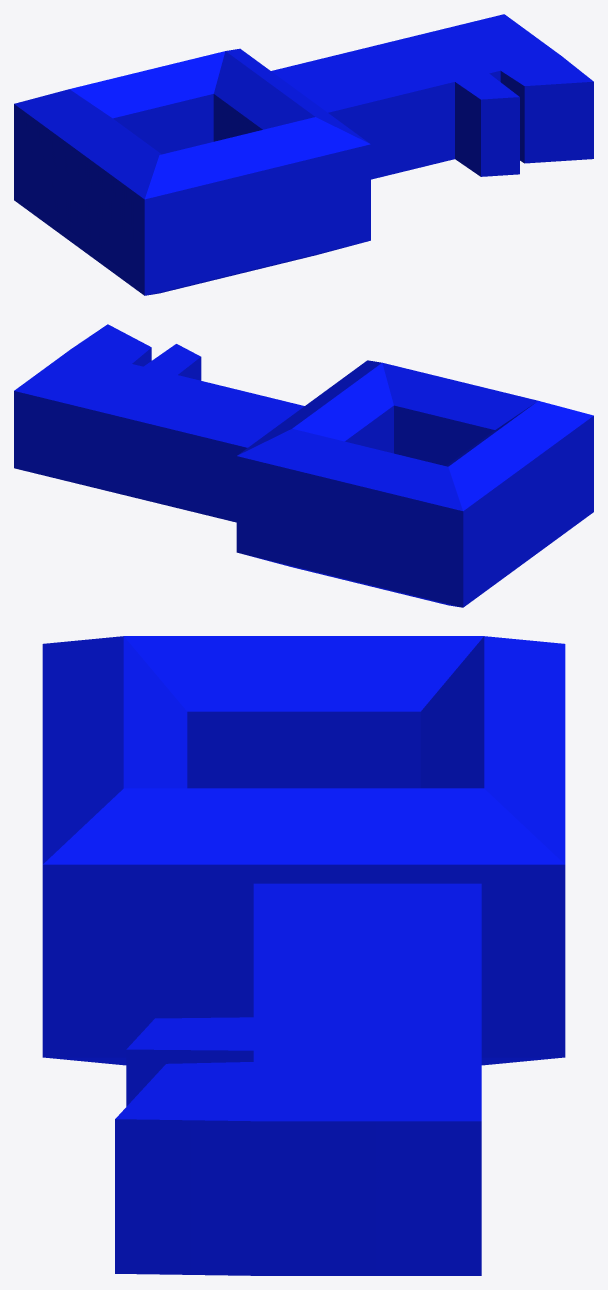
Rendered from Key1.obj.
3 renders of one model, top to bottom at view 1: azimuth 30°, elevation 25°; view 2: azimuth 150°, elevation 25°; view 3: azimuth 270°, elevation 25°, orthographic. The views are drawn at different scales.
Parts seen in each view (by area): view 1: Key1; view 2: Key1; view 3: Key1.
Boxes of the visible parts, left/top/right/bottom form: Key1: left=14, top=14, right=593, bottom=295; Key1: left=14, top=324, right=593, bottom=607; Key1: left=42, top=636, right=565, bottom=1275.
Bounding box in the file's own units: 2.34 × 0.6587 × 1.13.
